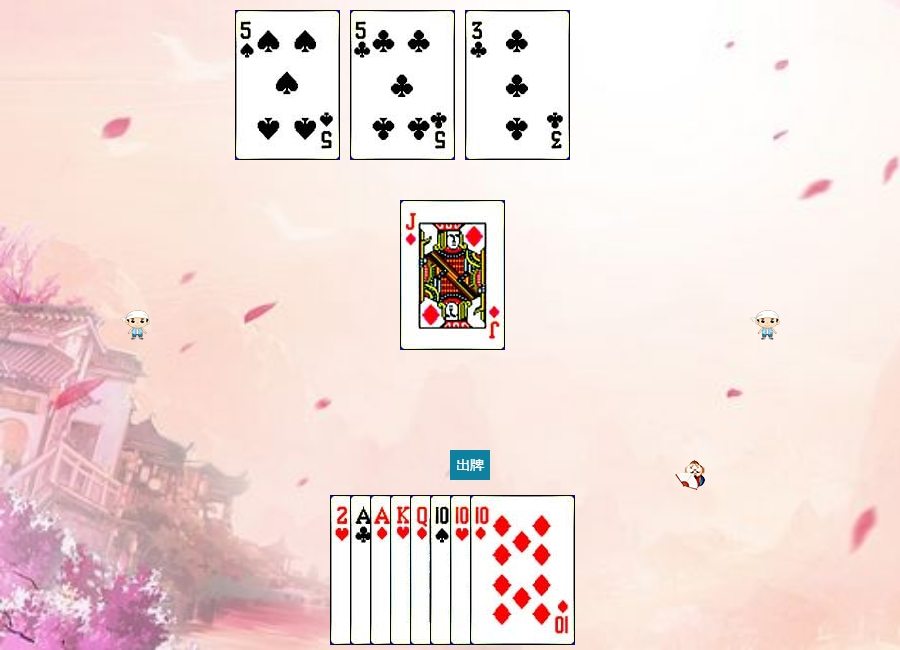10~1: (470, 495, 575, 645)
10~3: (450, 495, 555, 645)
10~4: (430, 495, 535, 645)
11~1: (400, 200, 505, 350)
12~1: (410, 495, 515, 645)
13~3: (390, 495, 495, 645)
14~1: (370, 495, 475, 645)
14~2: (350, 495, 455, 645)
15~3: (330, 495, 435, 645)
3~2: (465, 10, 570, 160)
5~2: (350, 10, 455, 160)
5~4: (235, 10, 340, 160)
